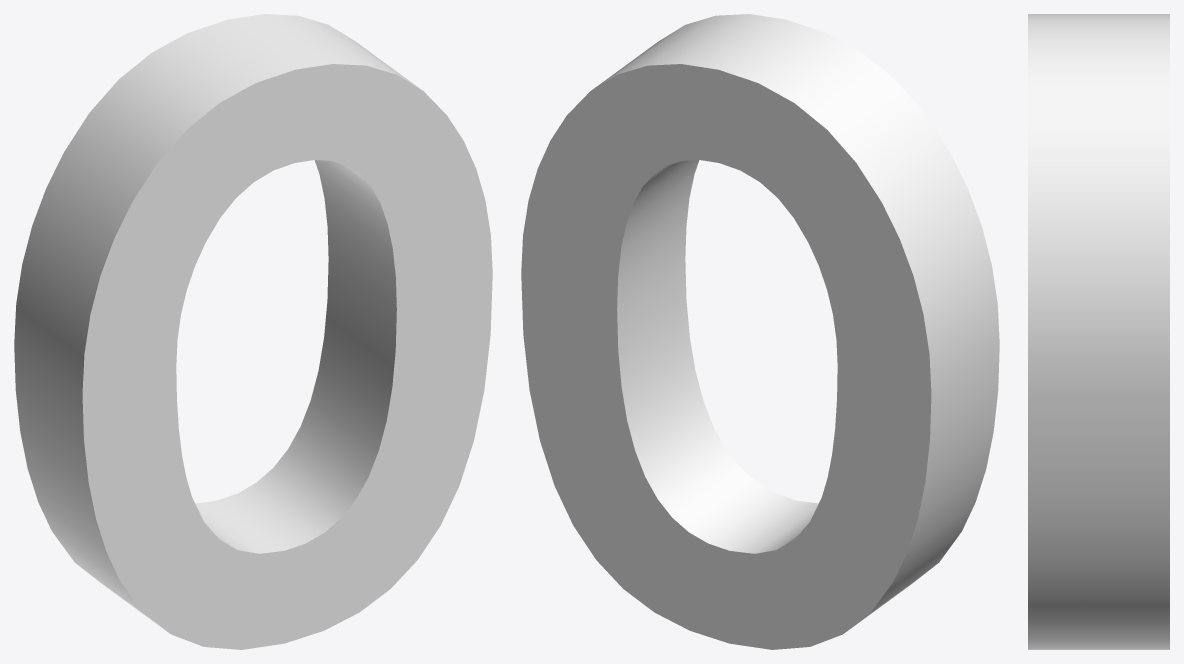
Rendered from NumberZero.fbx.
The picture shows the model from 3 angles, left to right: view 1: azimuth 30°, elevation 25°; view 2: azimuth 150°, elevation 25°; view 3: azimuth 270°, elevation 25°; orthographic projection. The views are drawn at different scales.
Visible parts, largest first — view 1: Text; view 2: Text; view 3: Text.
Part boxes in pixels (box(x1,y1,x2,y2)): Text: box(14, 14, 492, 649); Text: box(521, 14, 999, 649); Text: box(1028, 14, 1169, 649).
Size of the model in its own units: 41.63 by 55.39 by 12.
